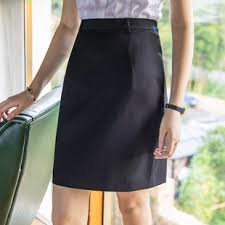F_tailored skirt: (52, 16, 189, 197)
